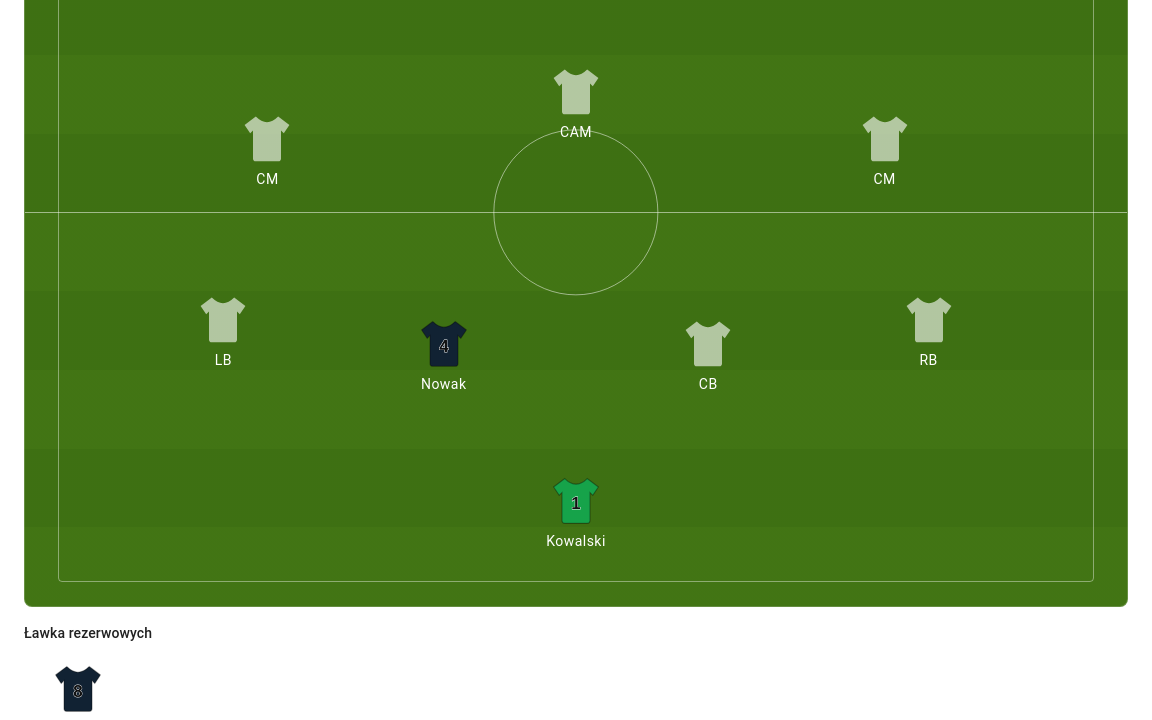
Test: choosing a player for the lineup › searches all players regardless of the position group
(page scrolled)
Expected: the text "Kowalski" is shown, top-left (546, 533), bottom-right (606, 549)
Click the text "LB" at {"x": 223, "y": 360}, box top-left (215, 352), bottom-right (232, 368)
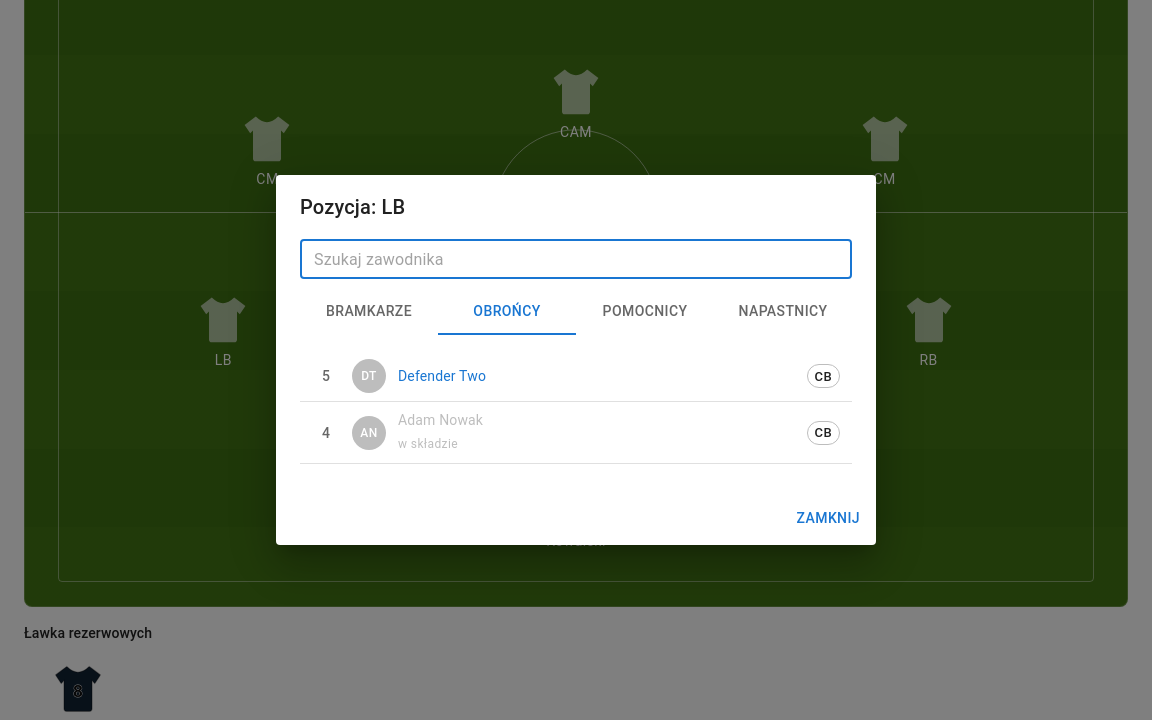
Type "LEWY" into the field with placeholder "Szukaj zawodnika" at {"x": 576, "y": 260}, box top-left (300, 240), bottom-right (852, 280)
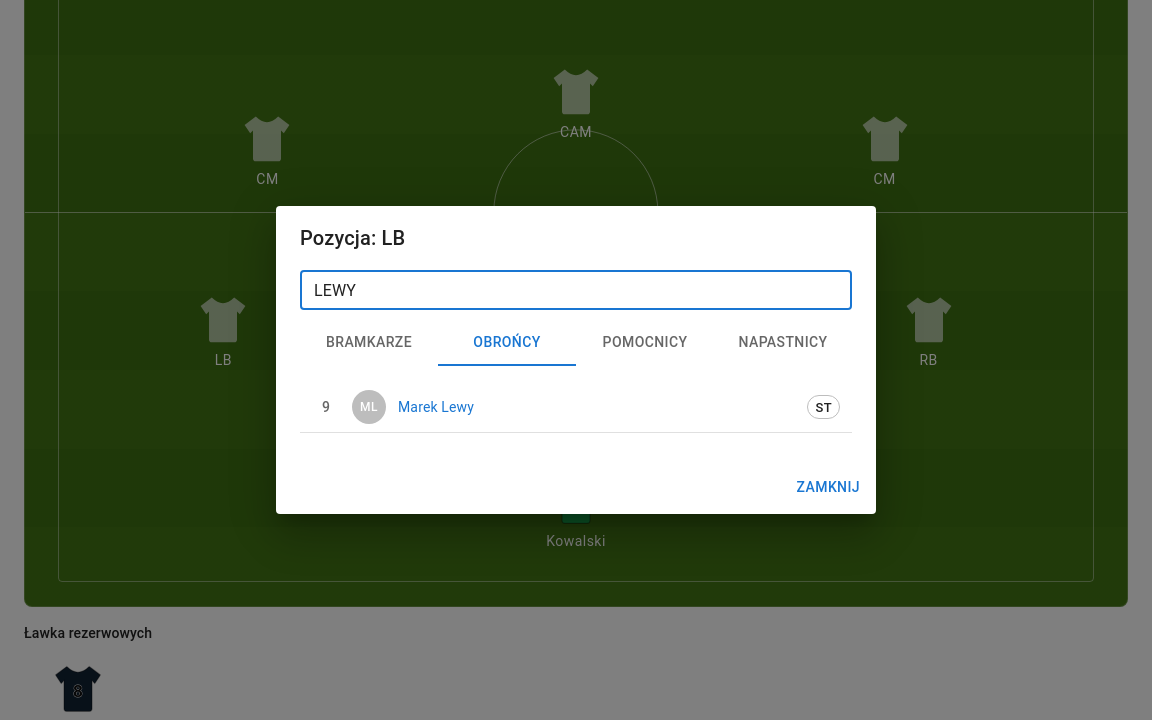
Result: the button "9 ML Marek Lewy ST" is shown at top-left (300, 382), bottom-right (852, 432)
Result: the button "Defender Two" is gone
